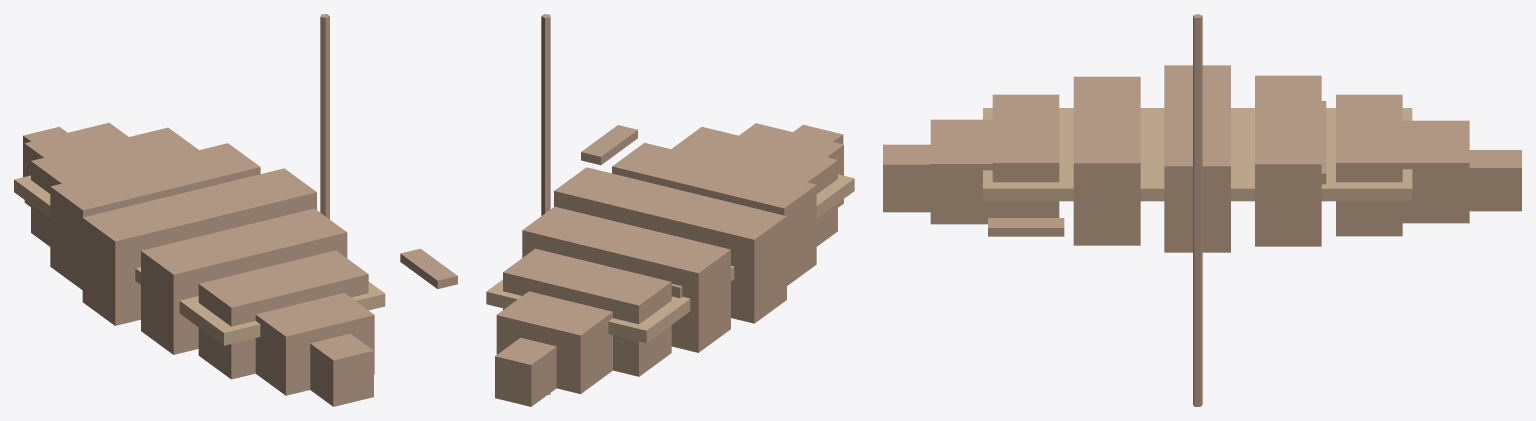
File: boat.glb
The picture shows the model from 3 angles, left to right: view 1: azimuth 30°, elevation 25°; view 2: azimuth 150°, elevation 25°; view 3: azimuth 270°, elevation 25°; orthographic projection. The views are drawn at different scales.
Parts seen in each view (by area): view 1: Boat; view 2: Boat; view 3: Boat.
Part boxes in pixels (box(x1,y1,x2,y2)): Boat: box(14, 14, 457, 406); Boat: box(486, 14, 854, 406); Boat: box(883, 14, 1521, 406).
Size of the model in its own units: 1.27 by 1.8 by 2.68.
